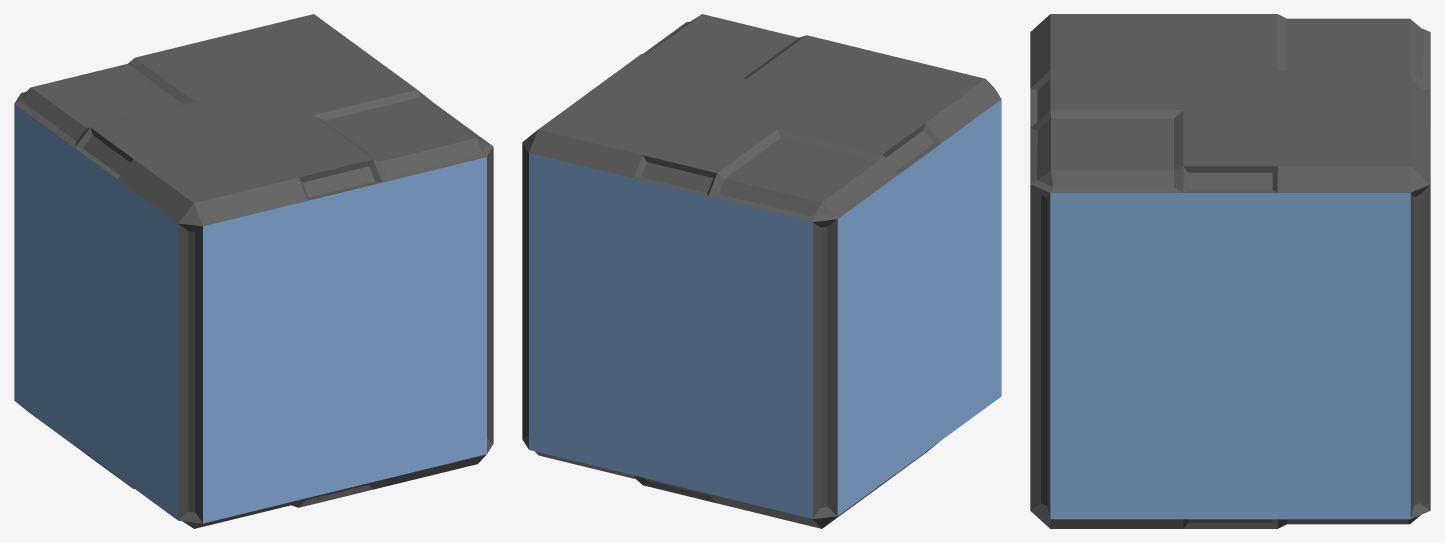
The model's file is CyberpunkCube.FBX.
3 views of the same model, side by side, from view 1: azimuth 30°, elevation 25°; view 2: azimuth 150°, elevation 25°; view 3: azimuth 270°, elevation 25° (orthographic). The views are drawn at different scales.
Parts seen in each view (by area): view 1: topPart, BottomPart; view 2: topPart, BottomPart; view 3: topPart, BottomPart.
Part boxes in pixels (x1,y1,x2,y2): topPart: (14,14,493,374); BottomPart: (14,252,493,528); topPart: (522,14,1001,370); BottomPart: (522,248,1001,528); topPart: (1030,14,1430,355); BottomPart: (1030,347,1430,528).
Bounding box in the file's own units: 0.4 × 0.4 × 0.4.
